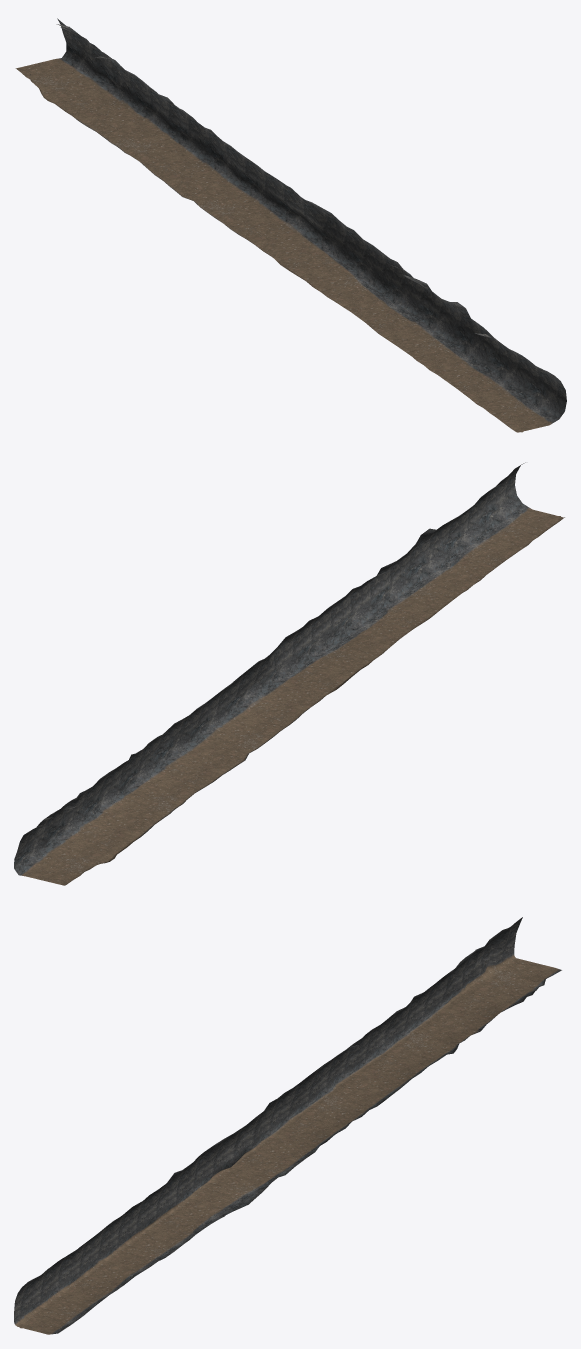
File: TunnelB.glb
3 renders of one model, top to bottom at view 1: azimuth 30°, elevation 25°; view 2: azimuth 150°, elevation 25°; view 3: azimuth 330°, elevation 25°, orthographic.
Visible parts, largest first — view 1: TunnelB; view 2: TunnelB; view 3: TunnelB.
Boxes of the visible parts, box(x1,y1,x2,y2) form: TunnelB: box(15, 18, 566, 432); TunnelB: box(14, 462, 564, 885); TunnelB: box(14, 917, 561, 1334).
Size of the model in its own units: 3.47 by 2.84 by 48.23.
Materials: 1 (1 with a texture image).
